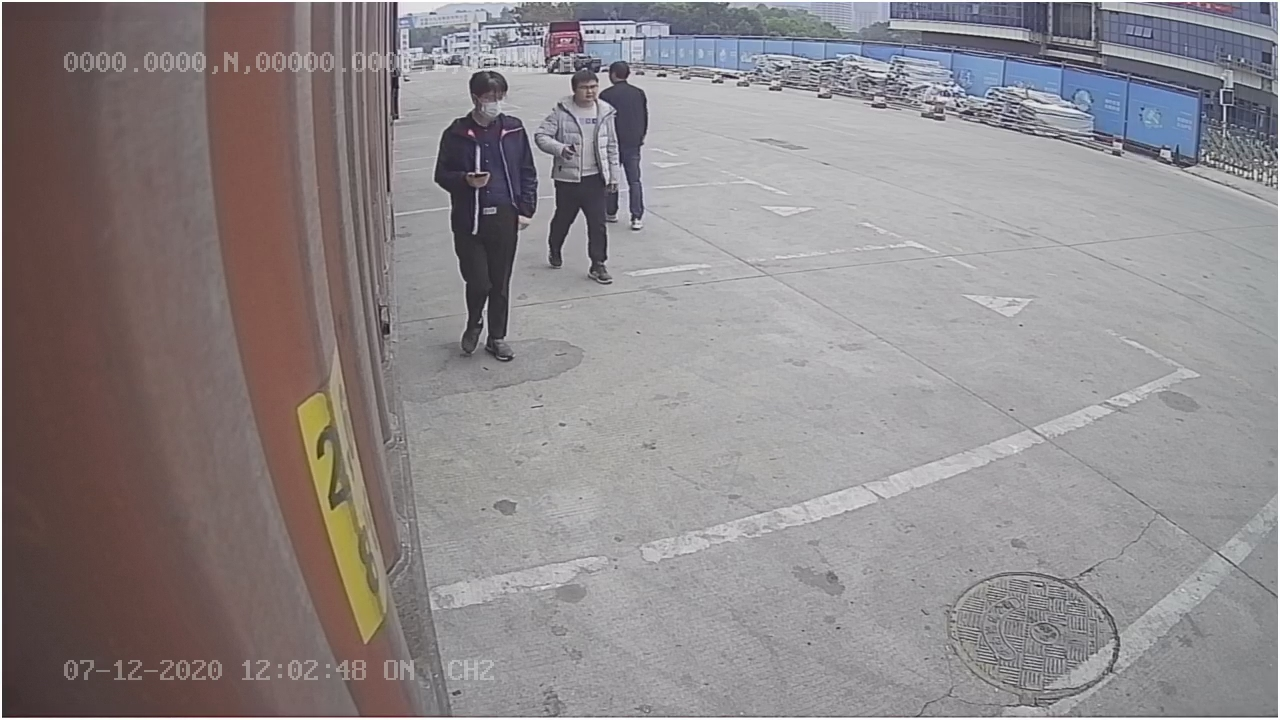person: (435, 71, 536, 362)
